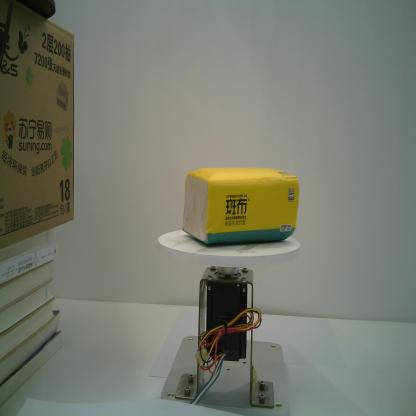Tissue: (178, 164, 302, 247)
